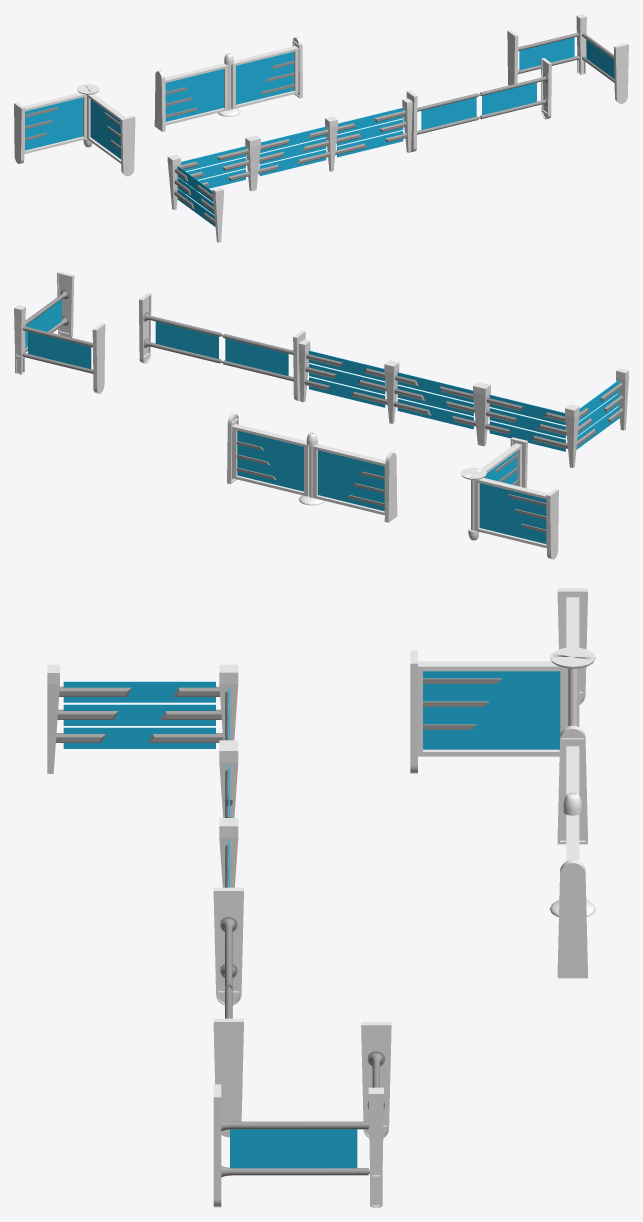
Rendered from fence.fbx.
The picture shows the model from 3 angles, top to bottom: view 1: azimuth 30°, elevation 25°; view 2: azimuth 150°, elevation 25°; view 3: azimuth 270°, elevation 25°; orthographic projection. The views are drawn at different scales.
Parts seen in each view (by area): view 1: Fence-AS, Fence-A90, Fence-BS, Fence-B90, Fence-90, Fence-S; view 2: Fence-AS, Fence-BS, Fence-A90, Fence-B90, Fence-S, Fence-90; view 3: Fence-A90, Fence-B90, Fence-90, Fence-AS, Fence-S, Fence-BS.
Part boxes in pixels (x1,y1,x2,y2): Fence-AS: (154,37,302,131); Fence-A90: (14,84,135,176); Fence-BS: (251,98,412,190); Fence-B90: (167,136,255,242); Fence-90: (507,14,628,103); Fence-S: (406,58,551,152); Fence-AS: (227,413,397,522); Fence-BS: (298,339,484,445); Fence-A90: (460,437,558,559); Fence-B90: (479,368,628,467); Fence-S: (139,293,305,401); Fence-90: (14,271,105,393); Fence-A90: (410,588,595,773); Fence-B90: (47,664,238,773); Fence-90: (213,1022,391,1207); Fence-AS: (550,725,595,978); Fence-S: (213,887,243,1137); Fence-BS: (219,745,238,887).
Bounding box in the file's own units: 473 × 50 × 216.
